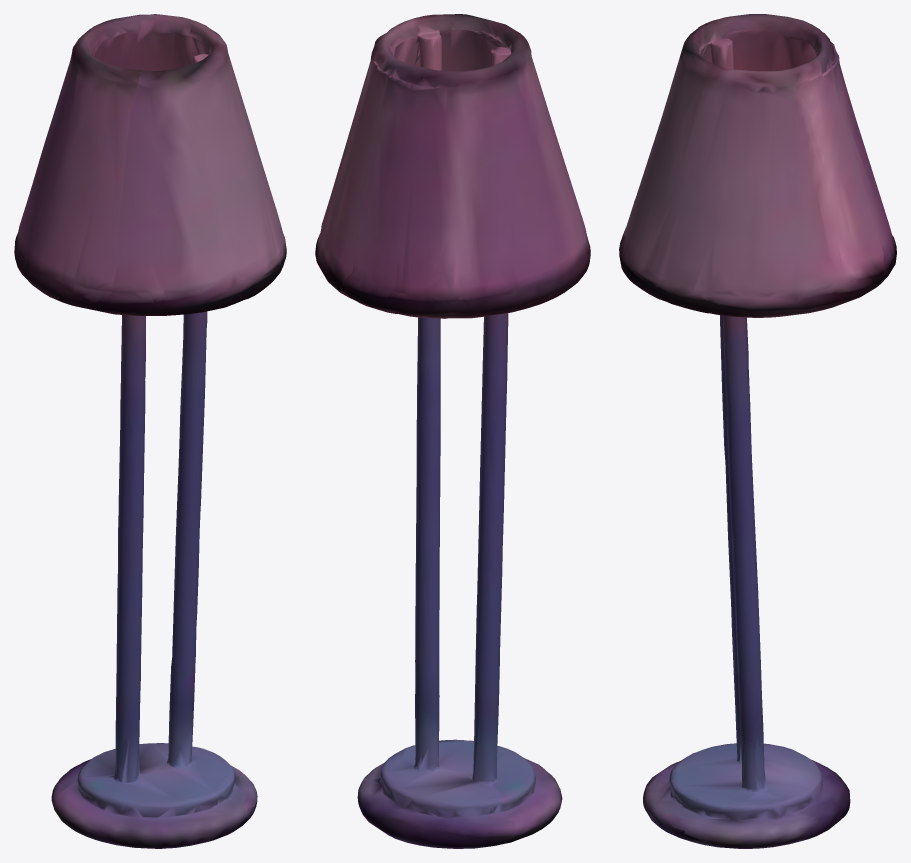
The model's file is canon-lamp.glb.
The picture shows the model from 3 angles, left to right: view 1: azimuth 30°, elevation 25°; view 2: azimuth 150°, elevation 25°; view 3: azimuth 270°, elevation 25°; orthographic projection.
Visible parts, largest first — view 1: lamp; view 2: lamp; view 3: lamp.
Boxes of the visible parts, x1=… form: lamp: x1=14, y1=14, x2=286, y2=848; lamp: x1=315, y1=14, x2=590, y2=848; lamp: x1=619, y1=14, x2=896, y2=848.
Bounding box in the file's own units: 0.2767 × 0.86 × 0.2799.
Materials: 1 (1 with a texture image).
